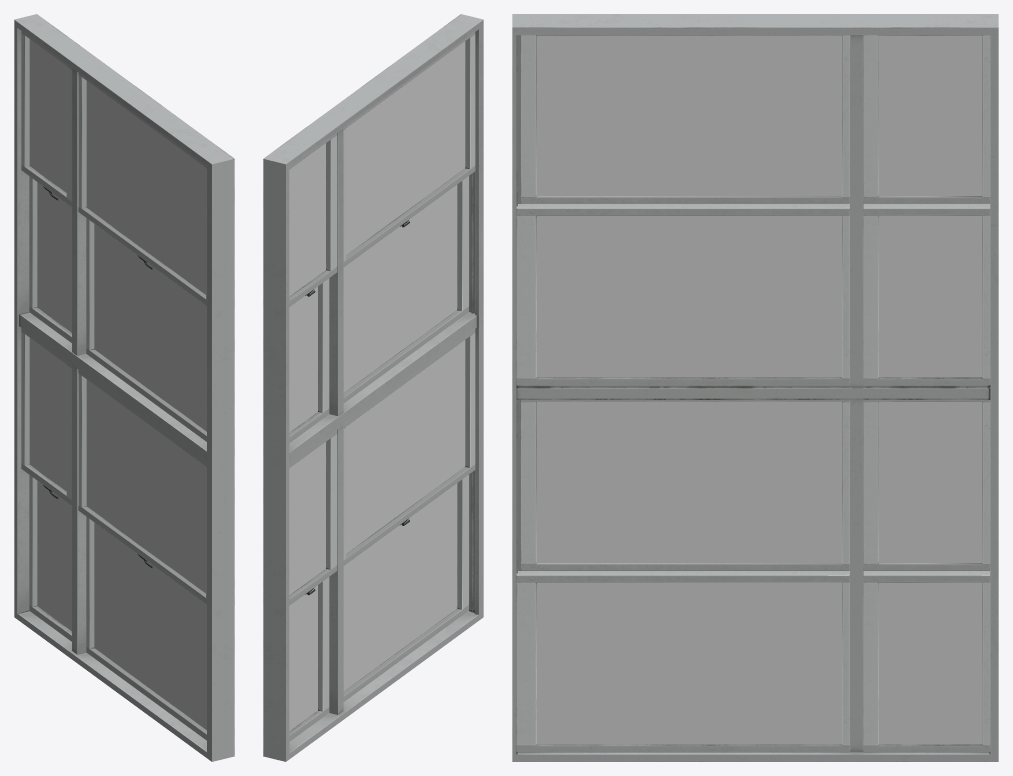
File: Window.fbx
3 renders of one model, left to right at view 1: azimuth 30°, elevation 25°; view 2: azimuth 150°, elevation 25°; view 3: azimuth 270°, elevation 25°, orthographic. The views are drawn at different scales.
Visible parts, largest first — view 1: Window; view 2: Window; view 3: Window.
Part boxes in pixels (x1,y1,x2,y2): Window: (14,14,234,761); Window: (263,14,483,761); Window: (512,14,998,761).
Bounding box in the file's own units: 0.12 × 3 × 1.8.
